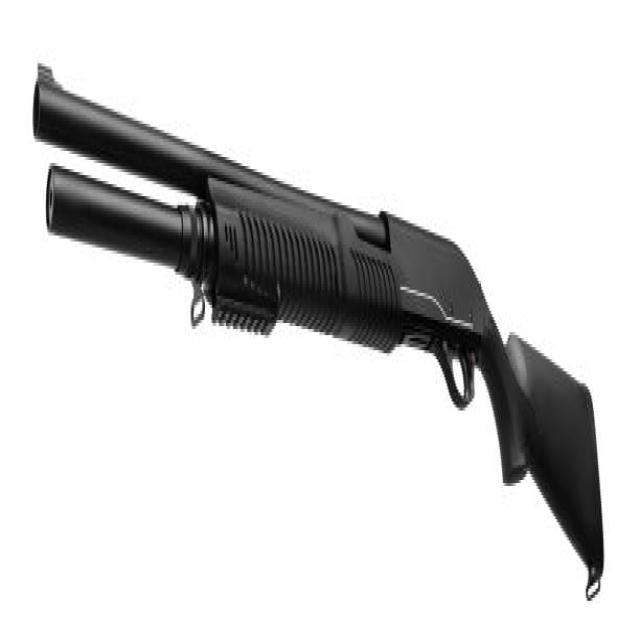rifle: (31, 52, 608, 606)
